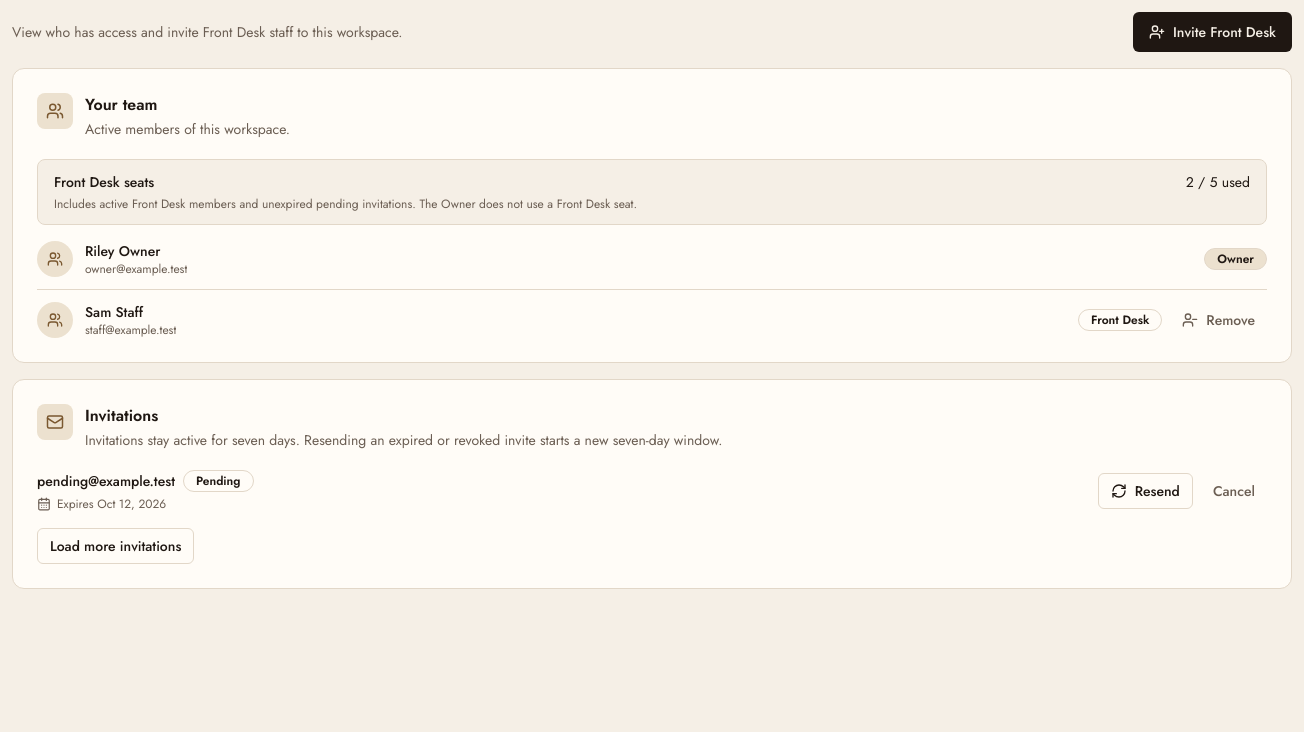
Test: MembersSettingsPage › loads additional invitation pages using the server cursor
Expected: the text "pending@example.test" is shown, [37,471,175,491]
Click the button "Load more invitations". click: (116, 546)
box: [37,528,194,564]
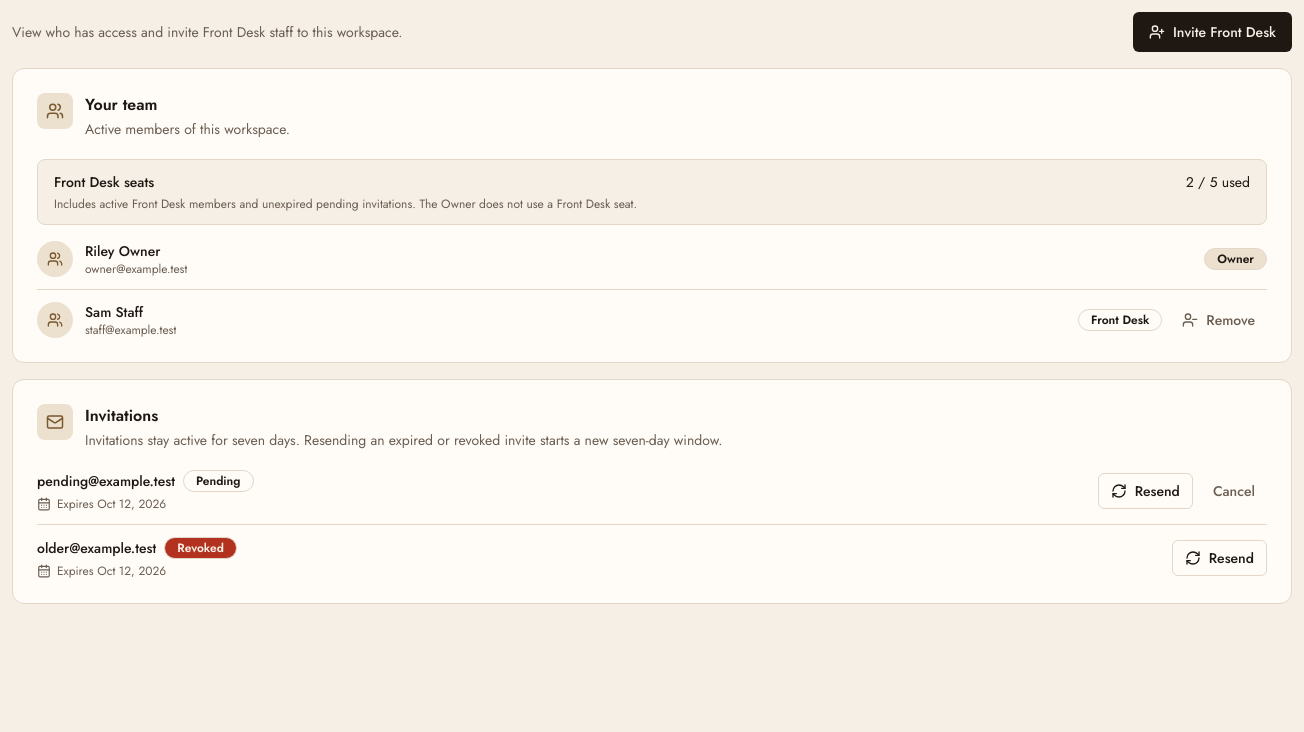
Expected: the text "older@example.test" is shown, [37,538,156,558]
